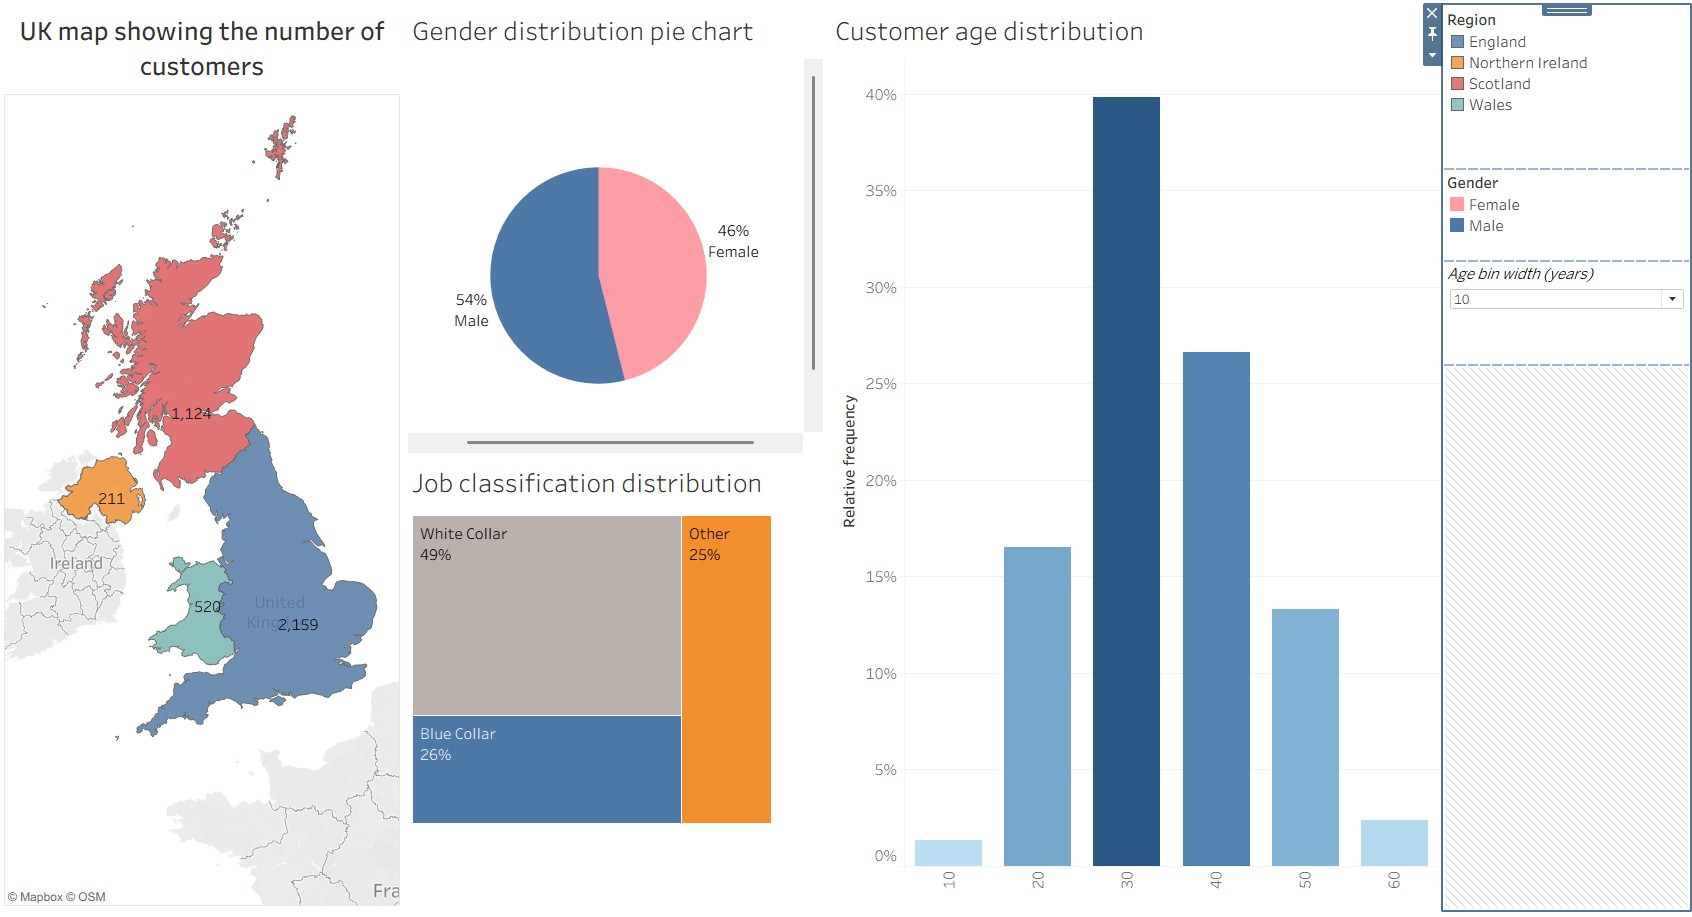

The page's visual inventory and layout, read from the dashboard file:
{"tool":"tableau","page":{"name":"Dashboard 1","canvas":[1000,1000],"units":"permille","ordinal":0},"visuals":[{"type":"worksheet","title":"Map","mark":"Multipolygon","box":[4.7,8.7,236.6,982.6]},{"type":"worksheet","title":"gender","mark":"Pie","box":[241.3,8.7,248.1,491.3]},{"type":"worksheet","title":"Age dist","mark":"Bar","rows":["S6-UK-Bank-Customers.csv_479541E6DEAB4D7190B0BE128150E17F"],"cols":["Age (bin)"],"box":[489.4,8.7,360.6,982.6]},{"type":"legend","title":"Map","param":"[federated.078by6z05r8kya18dkha504j1cbo].[none:Region:nk]","box":[850,8.7,145.3,177]},{"type":"legend","title":"gender","param":"[federated.078by6z05r8kya18dkha504j1cbo].[none:Gender:nk]","box":[850,185.7,145.3,99.9]},{"type":"parameter","param":"[Parameters].[Parameter 2]","box":[850,285.6,145.3,112.9]},{"type":"worksheet","title":"Sheet 6","mark":"Automatic","box":[241.3,500,248.1,491.3]}]}

Visuals, with their boxes on the dashboard's canvas, which has no fixed pixel size, in thousandths of its width and height (x1, y1, x2, y2). These are canvas units, not pixel positions in the 1692x917 screenshot, which may show the page scaled, cropped or inside an application window:
"Map" worksheet (Multipolygon marks): 5:9:241:991
"gender" worksheet (Pie marks): 241:9:489:500
"Age dist" worksheet (Bar marks): 489:9:850:991
"Map" legend: 850:9:995:186
"gender" legend: 850:186:995:286
parameter: 850:286:995:398
"Sheet 6" worksheet: 241:500:489:991
